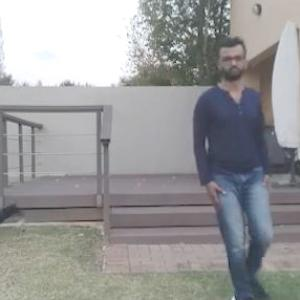follow: (182, 30, 278, 299)
